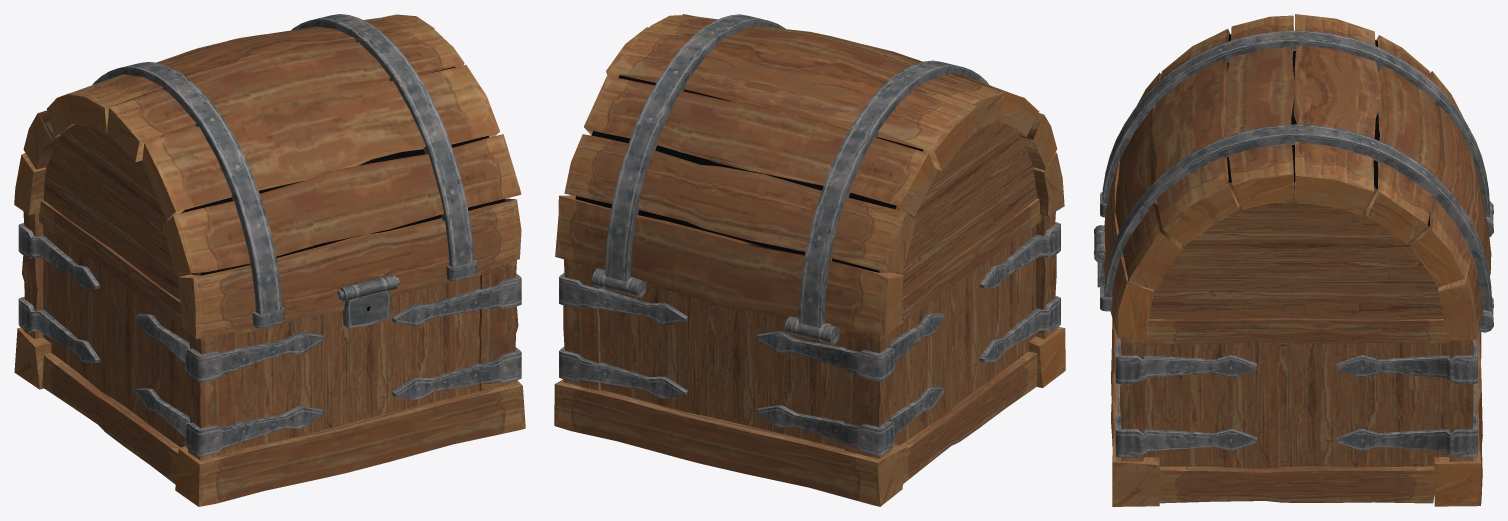
Rendered from SM_Farm_Chest_01.fbx.
The picture shows the model from 3 angles, left to right: view 1: azimuth 30°, elevation 25°; view 2: azimuth 150°, elevation 25°; view 3: azimuth 270°, elevation 25°; orthographic projection.
Parts seen in each view (by area): view 1: SM_Farm_Chest_01_LOD0; view 2: SM_Farm_Chest_01_LOD0; view 3: SM_Farm_Chest_01_LOD0.
Boxes of the visible parts, x1,y1,x2,y2 form: SM_Farm_Chest_01_LOD0: [14, 14, 525, 506]; SM_Farm_Chest_01_LOD0: [554, 14, 1065, 506]; SM_Farm_Chest_01_LOD0: [1094, 14, 1493, 506].
Bounding box in the file's own units: 80.55 × 80.69 × 84.04.
